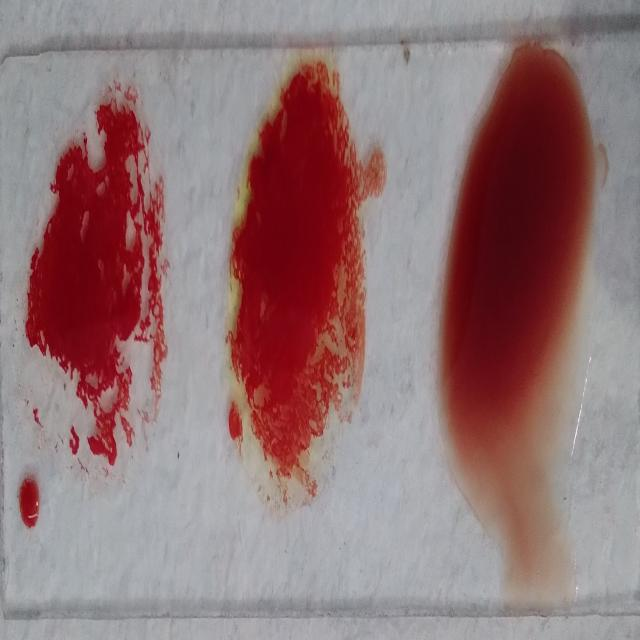B: (233, 57, 369, 494)
D: (33, 74, 173, 516)
